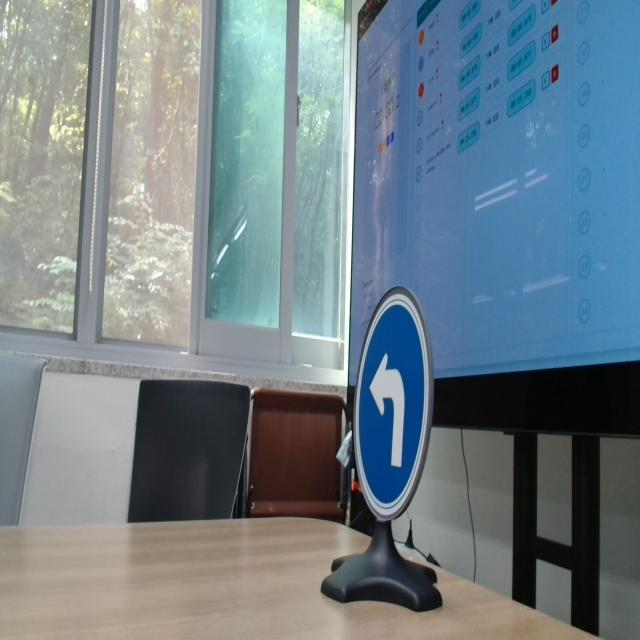left_direction: (348, 295, 436, 514)
